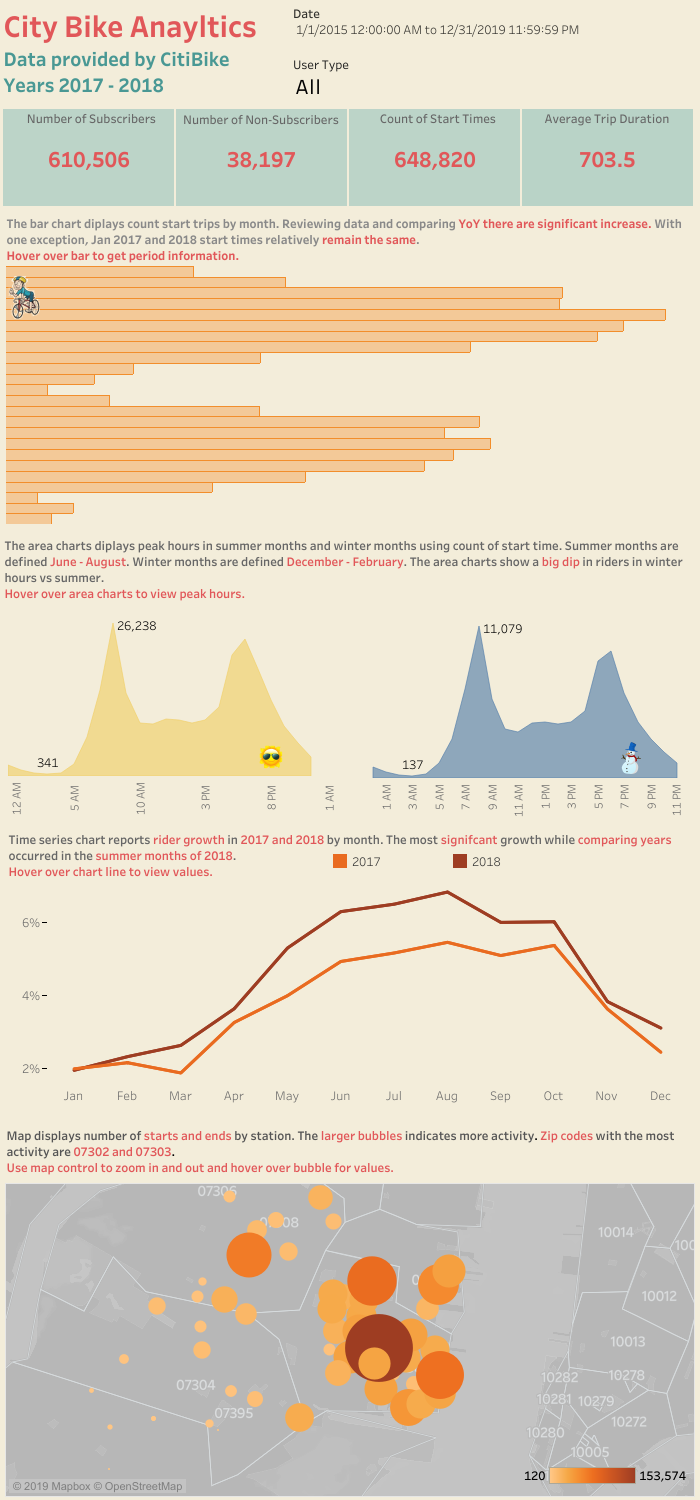

This screenshot's page, from the dashboard's own definition file:
{"tool":"tableau","page":{"name":"City Bike Anayltics","canvas":[700,1500],"ordinal":0},"visuals":[{"type":"text","box":[1,4,284,94]},{"type":"filter","title":"trips by period","param":"[federated.1yvss4g0x5jody1exgk0t15gggsk].[none:starttime:qk]","box":[293,4,405,46]},{"type":"filter","title":"Average distance in Miles","param":"[federated.1yvss4g0x5jody1exgk0t15gggsk].[none:usertype:nk]","box":[293,55,401,39]},{"type":"text","box":[20,97,143,42]},{"type":"text","box":[373,97,130,42]},{"type":"text","box":[542,97,139,42]},{"type":"text","box":[176,98,170,42]},{"type":"worksheet","title":"Average starts (2)","mark":"Square","box":[3,109,171,97]},{"type":"worksheet","title":"Average starts (3)","mark":"Square","box":[176,109,171,97]},{"type":"worksheet","title":"Average starts","mark":"Square","box":[349,109,171,97]},{"type":"worksheet","title":"Average distance in Miles","mark":"Square","box":[522,109,171,97]},{"type":"text","box":[4,209,691,60]},{"type":"worksheet","title":"trips by period","mark":"Bar","rows":["starttime"],"cols":["start station id"],"box":[6,266,690,258]},{"type":"image","param":"C:/Tableau Bike Data/Picture2.png","box":[6,276,49,43]},{"type":"text","box":[2,532,696,74]},{"type":"worksheet","title":"Summer Hours Peak Time","mark":"Area","rows":["starttime"],"cols":["starttime"],"box":[8,615,329,201]},{"type":"worksheet","title":"Winter Peak Hours","mark":"Area","rows":["starttime"],"cols":["starttime"],"box":[366,618,318,204]},{"type":"image","param":"C:/Tableau Bike Data/snowman-2024100_960_720.png","box":[621,742,31,32]},{"type":"image","param":"C:/Tableau Bike Data/sun.png","box":[253,743,36,28]},{"type":"text","box":[6,826,690,57]},{"type":"worksheet","title":"% rider ship growth","mark":"Automatic","rows":["start station id","start station id"],"cols":["starttime"],"box":[11,881,676,222]},{"type":"text","box":[4,1123,691,56]},{"type":"worksheet","title":"popular start and end stations","mark":"Automatic","rows":["start station latitude"],"cols":["start station longitude"],"box":[5,1183,690,314]},{"type":"legend","title":"popular start and end stations","param":"[federated.1yvss4g0x5jody1exgk0t15gggsk].[usr:Calculation_904379112970326019:qk]","box":[520,1463,171,35]}]}

Visuals, with their boxes in screenshot pixels (x1, y1, x2, y2), scaled from the page's 700x1500 canvas onto the 700x1500 screenshot:
text: <bbox>1, 4, 285, 98</bbox>
"trips by period" filter: <bbox>293, 4, 698, 50</bbox>
"Average distance in Miles" filter: <bbox>293, 55, 694, 94</bbox>
text: <bbox>20, 97, 163, 139</bbox>
text: <bbox>373, 97, 503, 139</bbox>
text: <bbox>542, 97, 681, 139</bbox>
text: <bbox>176, 98, 346, 140</bbox>
"Average starts (2)" worksheet (Square marks): <bbox>3, 109, 174, 206</bbox>
"Average starts (3)" worksheet (Square marks): <bbox>176, 109, 347, 206</bbox>
"Average starts" worksheet (Square marks): <bbox>349, 109, 520, 206</bbox>
"Average distance in Miles" worksheet (Square marks): <bbox>522, 109, 693, 206</bbox>
text: <bbox>4, 209, 695, 269</bbox>
"trips by period" worksheet (Bar marks): <bbox>6, 266, 696, 524</bbox>
image: <bbox>6, 276, 55, 319</bbox>
text: <bbox>2, 532, 698, 606</bbox>
"Summer Hours Peak Time" worksheet (Area marks): <bbox>8, 615, 337, 816</bbox>
"Winter Peak Hours" worksheet (Area marks): <bbox>366, 618, 684, 822</bbox>
image: <bbox>621, 742, 652, 774</bbox>
image: <bbox>253, 743, 289, 771</bbox>
text: <bbox>6, 826, 696, 883</bbox>
"% rider ship growth" worksheet: <bbox>11, 881, 687, 1103</bbox>
text: <bbox>4, 1123, 695, 1179</bbox>
"popular start and end stations" worksheet: <bbox>5, 1183, 695, 1497</bbox>
"popular start and end stations" legend: <bbox>520, 1463, 691, 1498</bbox>
